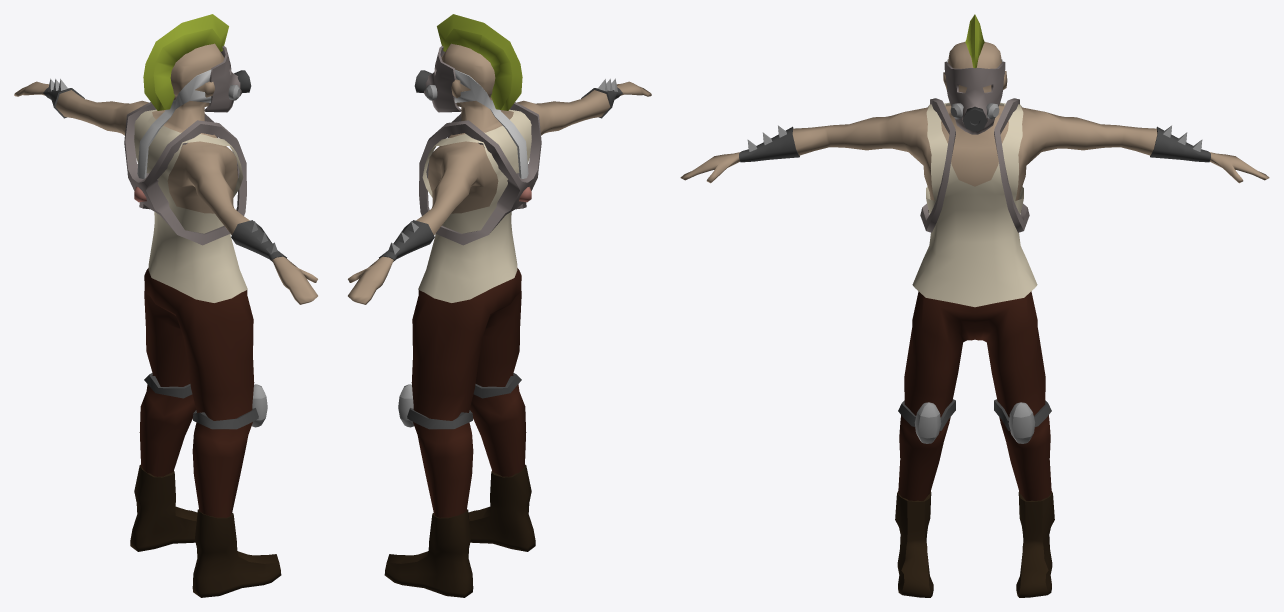
The model's file is Modeling_pillards 1.fbx.
The picture shows the model from 3 angles, left to right: view 1: azimuth 30°, elevation 25°; view 2: azimuth 150°, elevation 25°; view 3: azimuth 270°, elevation 25°; orthographic projection.
Visible parts, largest first — view 1: test_pantalon_tshirt.002, corps_pillards, chaussures_pillards, test_habits_tshirt.002, test_sac_a_dos.002, test_iroquoise.002, attache_masque_pillards, test_pantalon_genou.002, masque_a_gaz_pillards, bandes_poignets_pillards, test_genouillere.002, pics_pillards; view 2: test_pantalon_tshirt.002, corps_pillards, chaussures_pillards, test_habits_tshirt.002, test_sac_a_dos.002, test_iroquoise.002, attache_masque_pillards, test_pantalon_genou.002, masque_a_gaz_pillards, bandes_poignets_pillards, test_genouillere.002, pics_pillards; view 3: test_pantalon_tshirt.002, corps_pillards, test_habits_tshirt.002, chaussures_pillards, test_sac_a_dos.002, masque_a_gaz_pillards, bandes_poignets_pillards, test_genouillere.002, test_pantalon_genou.002.
Boxes of the visible parts, x1,y1,x2,y2 form: test_pantalon_tshirt.002: [139, 268, 254, 517]; corps_pillards: [14, 43, 317, 304]; chaussures_pillards: [130, 464, 281, 597]; test_habits_tshirt.002: [134, 109, 247, 302]; test_sac_a_dos.002: [124, 102, 246, 245]; test_iroquoise.002: [143, 14, 228, 110]; attache_masque_pillards: [137, 69, 211, 178]; test_pantalon_genou.002: [144, 373, 258, 429]; masque_a_gaz_pillards: [204, 46, 241, 112]; bandes_poignets_pillards: [43, 87, 286, 261]; test_genouillere.002: [251, 384, 267, 427]; pics_pillards: [48, 78, 277, 254]; test_pantalon_tshirt.002: [411, 268, 526, 517]; corps_pillards: [348, 43, 651, 304]; chaussures_pillards: [384, 464, 535, 597]; test_habits_tshirt.002: [418, 109, 531, 302]; test_sac_a_dos.002: [419, 102, 541, 245]; test_iroquoise.002: [437, 14, 522, 110]; attache_masque_pillards: [454, 69, 528, 178]; test_pantalon_genou.002: [407, 373, 521, 429]; masque_a_gaz_pillards: [424, 46, 461, 112]; bandes_poignets_pillards: [379, 87, 622, 261]; test_genouillere.002: [398, 384, 414, 427]; pics_pillards: [388, 78, 617, 254]; test_pantalon_tshirt.002: [898, 291, 1051, 500]; corps_pillards: [680, 42, 1269, 200]; test_habits_tshirt.002: [912, 102, 1037, 307]; chaussures_pillards: [895, 491, 1054, 597]; test_sac_a_dos.002: [920, 98, 1029, 232]; masque_a_gaz_pillards: [944, 61, 1005, 134]; bandes_poignets_pillards: [739, 126, 1210, 162]; test_genouillere.002: [914, 402, 1035, 443]; test_pantalon_genou.002: [898, 399, 1051, 430].
Size of the model in its own units: 61.26 by 273 by 263.
